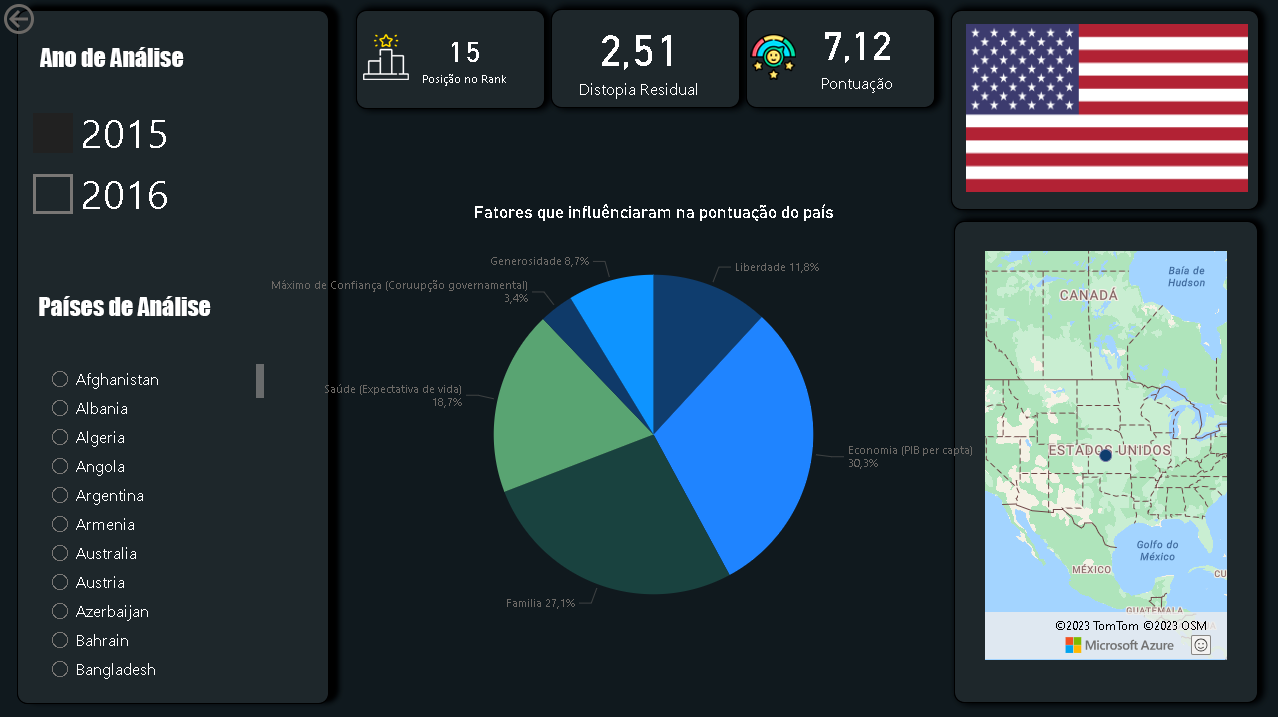

The dashboard page shown, as its layout file describes it:
{"tool":"powerbi","page":{"name":"Página 2","canvas":[1280,720],"ordinal":1},"visuals":[{"type":"slicer","fields":{"Values":["Country (Felicidade 2015).País"]},"box":[40,360,230,326.2],"z":0},{"type":"simpleImageEBC4593F96F1425FB3D84C5BF02B5075","fields":{"imageURL":["Country (Felicidade 2015).Link"]},"box":[961.5,20,292.3,177.7],"z":1000},{"type":"card","fields":{"Values":["Sum(Country (Felicidade 2015).Classificação de Felicidade)"]},"box":[389,13,152,88],"z":2000},{"type":"slicer","fields":{"Values":["Country (Felicidade 2015).Year"]},"box":[21.2,97.5,157.5,198.8],"z":3000},{"type":"donutChart","title":"Fatores que influênciaram na pontuação do país","fields":{"Y":["Max(Country (Felicidade 2015).Liberdade)","Max(Country (Felicidade 2015).Economia (PIB per capta))","Max(Country (Felicidade 2015).Familia)","Max(Country (Felicidade 2015).Saúde (Expectativa de vida))","Max(Country (Felicidade 2015).Confiança (Coruupção governamental))","Max(Country (Felicidade 2015).Generosidade)"]},"box":[257.5,202.5,793.8,446.2],"z":4000},{"type":"card","fields":{"Values":["Sum(Country (Felicidade 2015).Distopia Residual)"]},"box":[553.8,7.5,171.2,98.8],"z":5000},{"type":"azureMap","fields":{"Category":["Country (Felicidade 2015).País"]},"box":[981.1,246.7,252.2,418.9],"z":6000},{"type":"actionButton","box":[0,0,100,40],"z":7000},{"type":"card","fields":{"Values":["Sum(Country (Felicidade 2015).Pontuação de Felicidade)"]},"box":[770,0,175,107],"z":8000}]}

Visuals, with their boxes in screenshot pixels (x1, y1, x2, y2), scaled from the page's 1280x720 canvas onto the 1278x717 screenshot:
slicer - Country (Felicidade 2015).País: l=40, t=358, r=270, b=683
simpleImageEBC4593F96F1425FB3D84C5BF02B5075 - Country (Felicidade 2015).Link: l=960, t=20, r=1252, b=197
card - Sum(Country (Felicidade 2015).Classificação de Felicidade): l=388, t=13, r=540, b=101
slicer - Country (Felicidade 2015).Year: l=21, t=97, r=178, b=295
"Fatores que influênciaram na pontuação do país" donutChart: l=257, t=202, r=1050, b=646
card - Sum(Country (Felicidade 2015).Distopia Residual): l=553, t=7, r=724, b=106
azureMap - Country (Felicidade 2015).País: l=980, t=246, r=1231, b=663
actionButton: l=0, t=0, r=100, b=40
card - Sum(Country (Felicidade 2015).Pontuação de Felicidade): l=769, t=0, r=944, b=107
